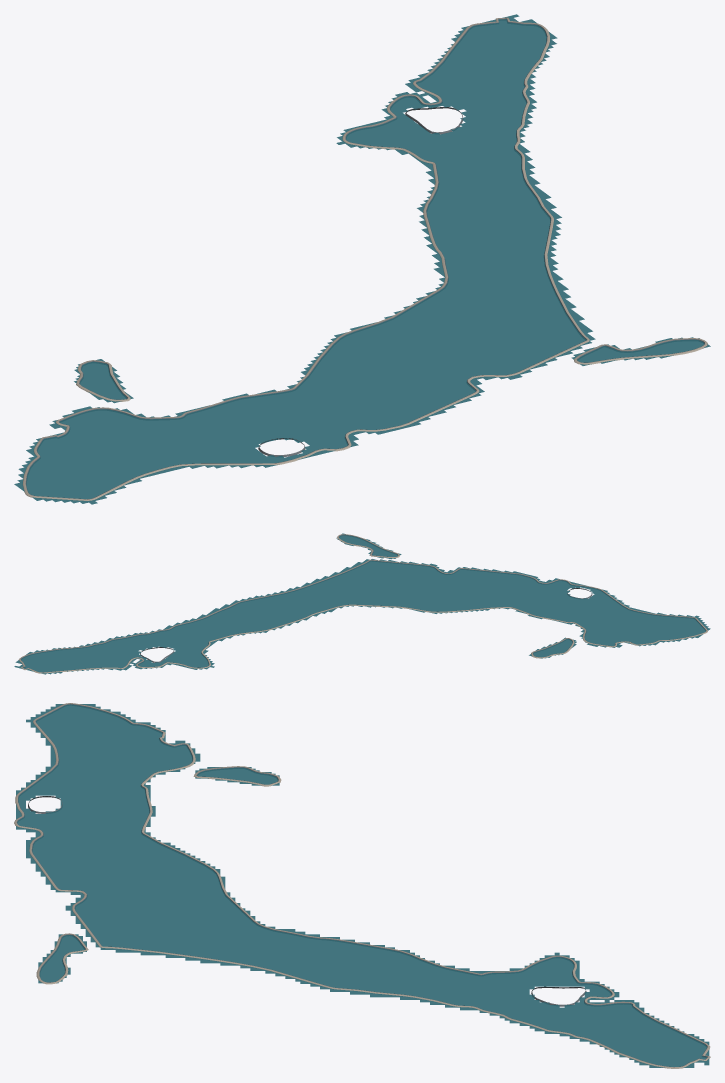
File: water_ho_xuan_huong.glb
The picture shows the model from 3 angles, top to bottom: view 1: azimuth 30°, elevation 25°; view 2: azimuth 150°, elevation 25°; view 3: azimuth 270°, elevation 25°; orthographic projection. The views are drawn at different scales.
Visible parts, largest first — view 1: water_surface_ho_xuan_huong, lakeside_promenade_walkway, embankment_stone_slope; view 2: water_surface_ho_xuan_huong, lakeside_promenade_walkway, embankment_stone_slope; view 3: water_surface_ho_xuan_huong, lakeside_promenade_walkway, embankment_stone_slope.
Boxes of the visible parts, <box> form: water_surface_ho_xuan_huong: <box>14,14,710,504</box>; lakeside_promenade_walkway: <box>22,17,707,500</box>; embankment_stone_slope: <box>25,18,704,499</box>; water_surface_ho_xuan_huong: <box>14,533,710,674</box>; lakeside_promenade_walkway: <box>19,534,707,673</box>; embankment_stone_slope: <box>20,534,706,672</box>; water_surface_ho_xuan_huong: <box>16,704,709,1067</box>; lakeside_promenade_walkway: <box>14,703,710,1068</box>; embankment_stone_slope: <box>16,703,707,1067</box>.
Bounding box in the file's own units: 1623 × 3.12 × 1307.
